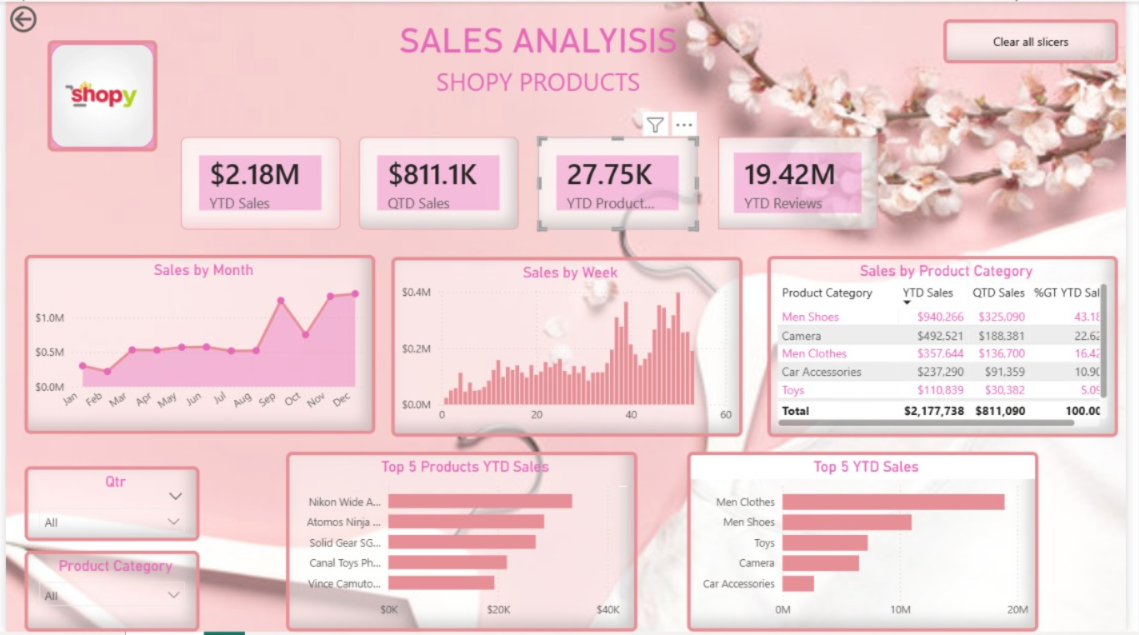

Layout of this report page (visuals, bound fields, positions):
{"tool":"powerbi","page":{"name":"Page 1","canvas":[1280,720],"ordinal":0},"visuals":[{"type":"textbox","title":"SALES ANALYISIS","box":[235.3,23.5,744.7,95.3],"z":0},{"type":"image","box":[47.1,43.5,125.9,127.1],"z":1000},{"type":"cardVisual","fields":{"Data":["Amazon_Data.YTD Sales"]},"box":[200,155.3,182.4,105.9],"z":2000},{"type":"cardVisual","fields":{"Data":["Amazon_Data.QTD Sales"]},"box":[403.5,155.3,182.4,105.9],"z":3000},{"type":"cardVisual","fields":{"Data":["Amazon_Data.YTD Product sold"]},"box":[608.2,155.3,182.4,105.9],"z":4000},{"type":"cardVisual","fields":{"Data":["Amazon_Data.YTD Reviews"]},"box":[814.1,155.3,182.4,105.9],"z":5000},{"type":"lineChart","title":"Sales by Month","fields":{"Category":["Date Table.Date Table"],"Y":["Sum(Amazon_Data.Price(Dollar))"]},"box":[21.2,289.4,401.2,204.7],"z":6000},{"type":"pivotTable","title":"Sales by Product Category","fields":{"Rows":["Amazon_Data.Product Category"],"Values":["Amazon_Data.YTD Sales","Amazon_Data.QTD Sales","Divide(Amazon_Data.YTD Sales, ScopedEval(Amazon_Data.YTD Sales, []))"]},"box":[870.6,290.6,401.2,207.1],"z":7000},{"type":"actionButton","box":[0,0,100,40],"z":8000},{"type":"clusteredColumnChart","title":"Sales by Week","fields":{"Category":["Date Table.week"],"Y":["Sum(Amazon_Data.Price(Dollar))"]},"box":[440,291.4,401.4,205.7],"z":9000},{"type":"clusteredBarChart","title":"Top 5 Products YTD Sales ","fields":{"Category":["Amazon_Data.Product Description"],"Y":["Amazon_Data.YTD Sales"]},"box":[320,514.3,401.4,205.7],"z":10000},{"type":"clusteredBarChart","title":"Top 5 YTD Sales","fields":{"Category":["Amazon_Data.Product Category"],"Y":["Sum(Amazon_Data.Number of  reviews)"]},"box":[778.6,514.3,401.4,205.7],"z":11000},{"type":"slicer","title":"Qtr","fields":{"Values":["Date Table.Qtr"]},"box":[21.4,531.4,200,85.7],"z":12000},{"type":"slicer","title":"Product Category","fields":{"Values":["Amazon_Data.Product Category"]},"box":[21.4,627.1,200,92.9],"z":13000},{"type":"actionButton","box":[1071.4,20,200,50],"z":14000}]}

Visuals, with their boxes in screenshot pixels (x1, y1, x2, y2), scaled from the page's 1280x720 canvas onto the 1139x635 screenshot:
"SALES ANALYISIS" textbox: (209,21,872,105)
image: (42,38,154,150)
cardVisual - Amazon_Data.YTD Sales: (178,137,340,230)
cardVisual - Amazon_Data.QTD Sales: (359,137,521,230)
cardVisual - Amazon_Data.YTD Product sold: (541,137,704,230)
cardVisual - Amazon_Data.YTD Reviews: (724,137,887,230)
"Sales by Month" lineChart: (19,255,376,436)
"Sales by Product Category" pivotTable: (775,256,1132,439)
actionButton: (0,0,89,35)
"Sales by Week" clusteredColumnChart: (392,257,749,438)
"Top 5 Products YTD Sales " clusteredBarChart: (285,454,642,634)
"Top 5 YTD Sales" clusteredBarChart: (693,454,1050,634)
"Qtr" slicer: (19,469,197,544)
"Product Category" slicer: (19,553,197,634)
actionButton: (953,18,1131,62)
